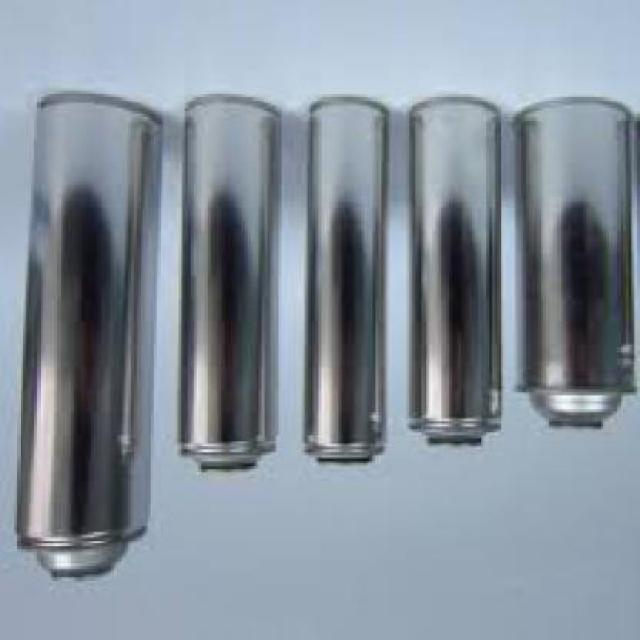METAL: (20, 100, 168, 583), (517, 100, 638, 431), (180, 99, 282, 475), (409, 104, 506, 456), (310, 100, 390, 469)
